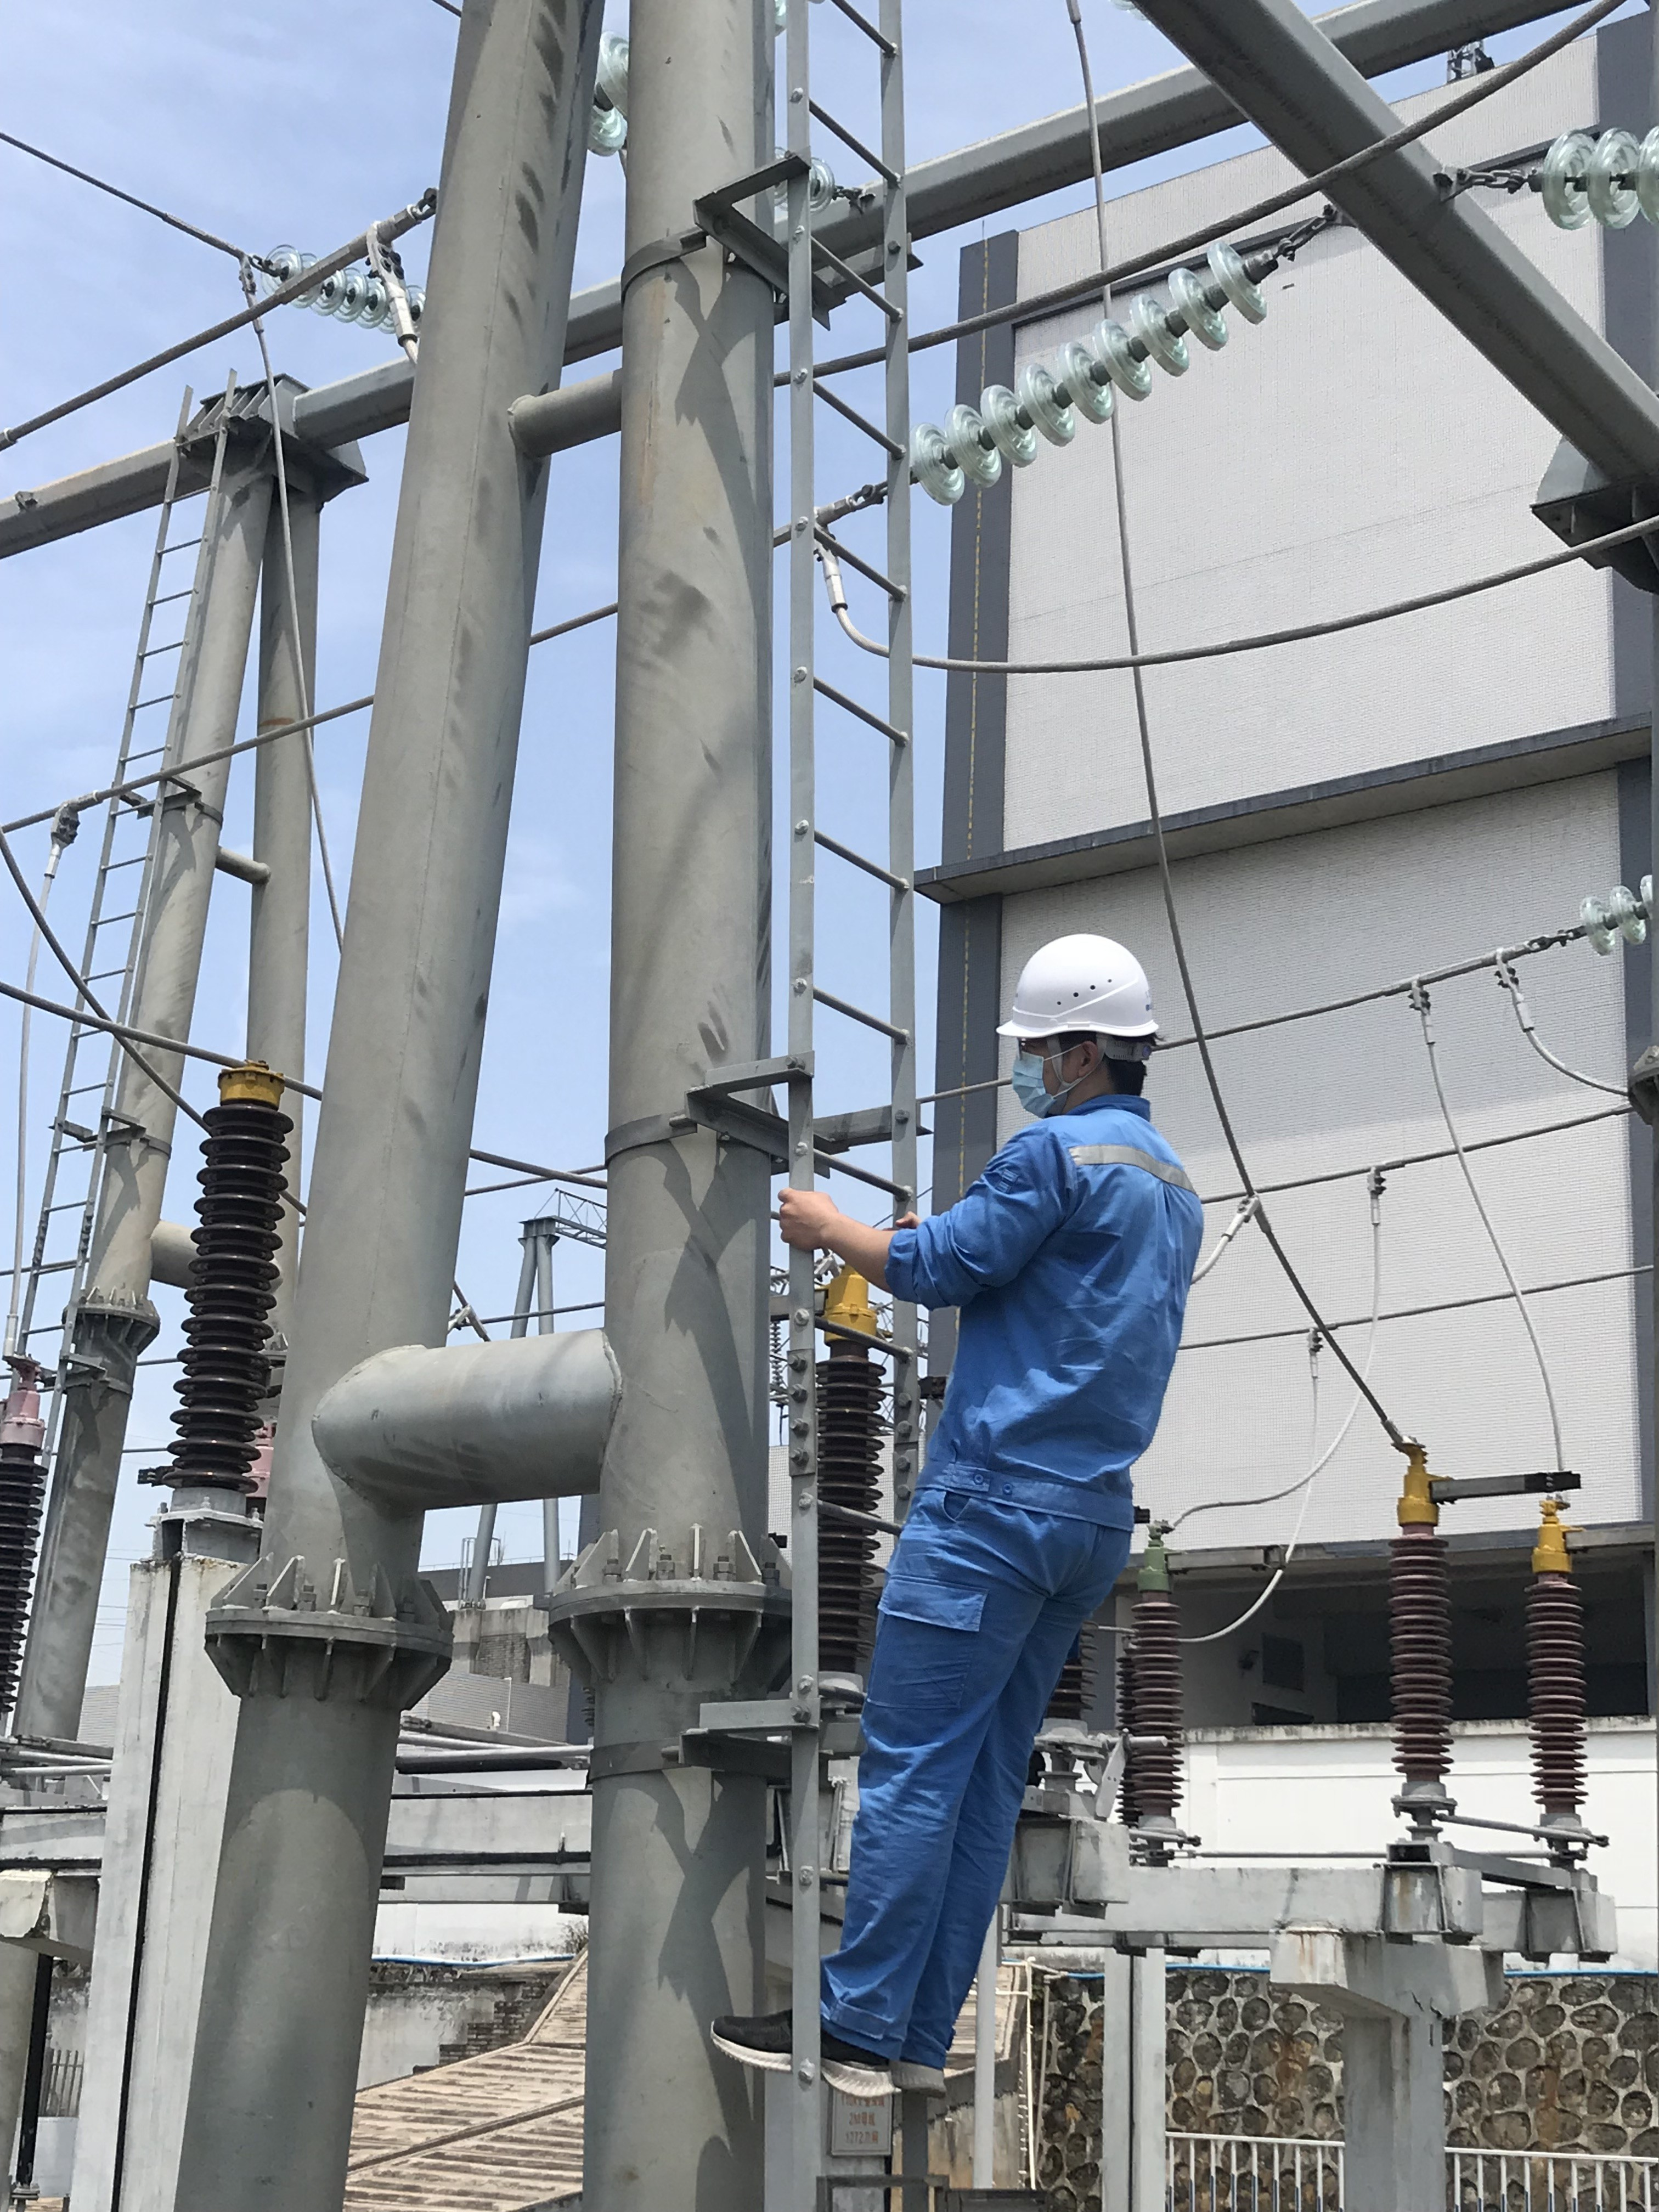downsuit: (809, 1529, 1138, 2041)
upsuit: (871, 1092, 1223, 1508)
wrongtop: (772, 1163, 917, 1285)
